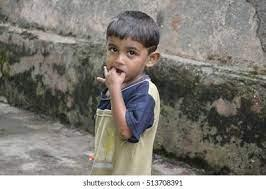Human: (88, 10, 163, 182)
